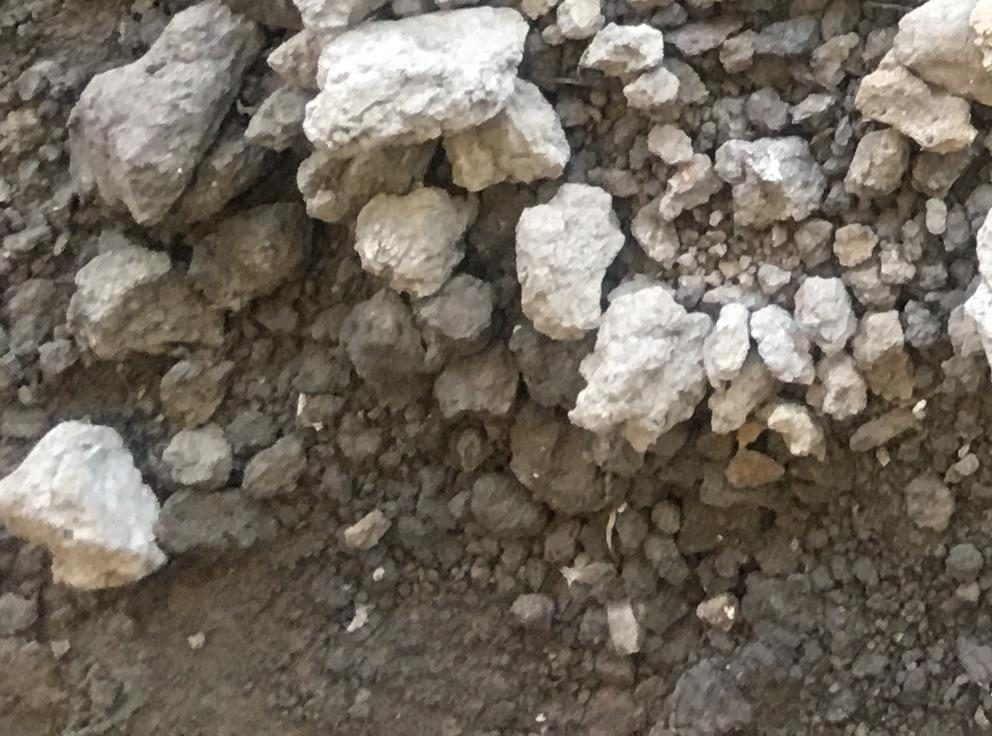block: (65, 7, 253, 226), (304, 8, 527, 153), (1, 417, 162, 595), (573, 294, 704, 440), (71, 247, 222, 356), (517, 183, 620, 338), (445, 80, 570, 196), (353, 182, 467, 298), (897, 1, 992, 110)
